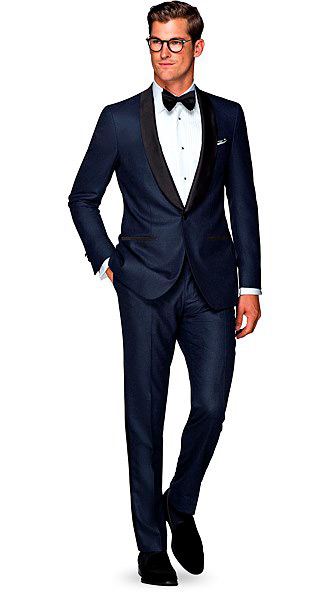bow: (162, 87, 198, 113)
glasses: (141, 35, 198, 56)
